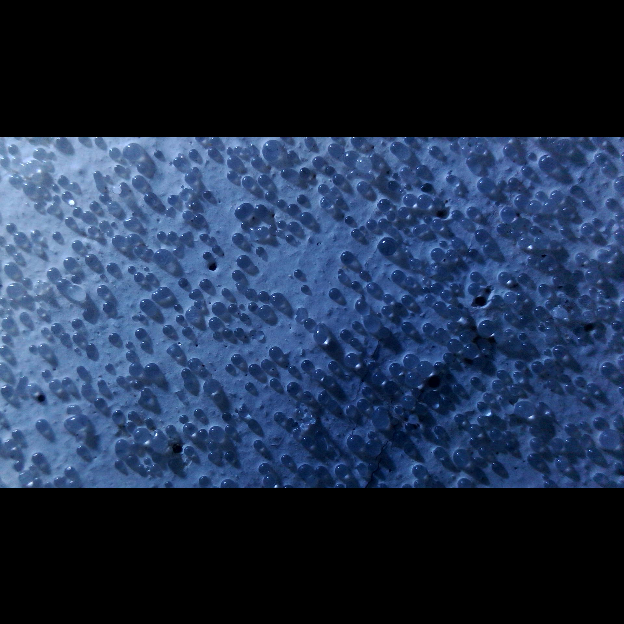GrassBeadSeg: (38, 154, 548, 453), (50, 170, 576, 447), (72, 206, 540, 465), (34, 146, 443, 434), (181, 183, 579, 463), (22, 199, 598, 391), (258, 147, 605, 448), (228, 181, 590, 456), (157, 230, 597, 456), (97, 240, 562, 447), (61, 142, 452, 387), (123, 142, 564, 356), (62, 189, 462, 422), (8, 143, 543, 316), (95, 144, 439, 406), (96, 177, 456, 421), (52, 194, 551, 367), (66, 196, 517, 384), (54, 207, 505, 391), (115, 193, 477, 419), (225, 154, 602, 371), (23, 181, 534, 339), (171, 193, 583, 384), (41, 165, 412, 376), (192, 225, 596, 418), (134, 208, 460, 439), (93, 169, 408, 407), (123, 183, 602, 337), (112, 233, 568, 391), (92, 176, 519, 341), (266, 216, 575, 432), (245, 186, 532, 414), (136, 157, 533, 320), (46, 294, 445, 451), (65, 188, 394, 372), (50, 322, 461, 464), (276, 198, 588, 384), (161, 229, 441, 433), (298, 193, 612, 374), (169, 230, 463, 421), (243, 155, 544, 338), (14, 163, 427, 295), (206, 197, 507, 378), (313, 206, 514, 475), (50, 156, 536, 264), (125, 221, 505, 359), (252, 213, 476, 447), (207, 146, 594, 281), (74, 185, 515, 302), (144, 191, 581, 303), (240, 220, 513, 399), (73, 248, 444, 375), (345, 205, 571, 413), (383, 214, 608, 421), (46, 149, 530, 245), (106, 169, 337, 369), (77, 217, 443, 341), (139, 194, 527, 310), (304, 241, 495, 475), (194, 151, 384, 384), (76, 297, 582, 384), (106, 135, 554, 233), (208, 193, 524, 330), (49, 309, 441, 419), (111, 173, 285, 420), (377, 197, 613, 376), (165, 281, 442, 433), (15, 212, 202, 437), (189, 287, 437, 456), (127, 264, 325, 475), (47, 202, 585, 279), (251, 154, 459, 351), (350, 157, 606, 316), (47, 271, 371, 394), (130, 352, 541, 447), (125, 206, 401, 347), (476, 176, 616, 445), (372, 200, 540, 423), (227, 193, 431, 373), (310, 164, 532, 327), (135, 270, 340, 439), (143, 149, 296, 375), (162, 227, 487, 333), (55, 196, 189, 453), (177, 176, 492, 285), (71, 239, 291, 392), (404, 182, 546, 412), (34, 293, 267, 430), (190, 178, 433, 303), (322, 274, 598, 384), (216, 227, 359, 439), (7, 144, 409, 217), (257, 368, 534, 473), (326, 374, 596, 481), (180, 367, 538, 447), (297, 359, 543, 475), (0, 383, 274, 485), (390, 141, 526, 340), (99, 219, 201, 484), (509, 224, 619, 469), (238, 237, 362, 449), (261, 139, 356, 415), (278, 301, 472, 434), (94, 396, 419, 475), (226, 155, 385, 314), (212, 155, 323, 380), (469, 269, 606, 445), (355, 197, 615, 288), (150, 190, 275, 375), (311, 154, 475, 294), (251, 155, 359, 365), (198, 427, 604, 482), (70, 182, 327, 268), (135, 166, 263, 337), (76, 230, 171, 455), (208, 173, 343, 328), (113, 163, 266, 299), (195, 219, 298, 416), (277, 151, 534, 228), (286, 202, 527, 282), (280, 377, 504, 463), (260, 282, 480, 368), (157, 141, 278, 295), (356, 243, 591, 321), (286, 416, 546, 486), (70, 141, 456, 188), (153, 149, 376, 229), (387, 179, 513, 319), (199, 436, 558, 485), (244, 381, 425, 476), (84, 252, 412, 304), (422, 176, 552, 307), (334, 196, 414, 408), (71, 321, 299, 393), (42, 399, 530, 432), (210, 321, 433, 391), (165, 142, 254, 317), (182, 211, 304, 336), (235, 253, 369, 365), (175, 210, 310, 321), (131, 271, 229, 419), (327, 362, 468, 464), (11, 411, 540, 438), (364, 393, 605, 452), (300, 207, 387, 369), (198, 277, 354, 365), (0, 162, 78, 336), (303, 150, 357, 399), (21, 293, 244, 352), (183, 291, 284, 421), (6, 281, 73, 476), (170, 303, 269, 434), (221, 163, 317, 298), (317, 156, 370, 400), (231, 269, 430, 333), (57, 148, 139, 294), (273, 321, 393, 420), (150, 407, 298, 486), (0, 217, 134, 301), (236, 268, 413, 331), (162, 323, 418, 366), (174, 245, 263, 367), (166, 256, 419, 295), (84, 304, 198, 389), (107, 143, 251, 209), (333, 154, 391, 314), (99, 220, 261, 277), (257, 153, 554, 184), (49, 184, 212, 240), (167, 193, 255, 296), (90, 188, 210, 263), (327, 286, 495, 337), (241, 174, 558, 201), (503, 327, 586, 429), (529, 341, 621, 432), (275, 180, 425, 234), (461, 232, 526, 356), (89, 200, 369, 228), (296, 169, 533, 202), (275, 166, 309, 387), (146, 276, 365, 310), (337, 268, 443, 338), (65, 215, 112, 372), (328, 135, 404, 232), (191, 165, 288, 241), (42, 206, 136, 284), (211, 259, 344, 314), (136, 176, 242, 242), (211, 167, 293, 252), (28, 416, 154, 471), (62, 370, 523, 385), (31, 331, 83, 462), (400, 269, 599, 303), (303, 396, 481, 434), (208, 397, 369, 439), (51, 181, 74, 475), (0, 278, 92, 351), (388, 246, 439, 376), (103, 173, 154, 299), (269, 362, 524, 386), (234, 201, 615, 217), (359, 147, 405, 279), (114, 333, 218, 391), (356, 394, 433, 472), (152, 247, 186, 420), (405, 334, 521, 384), (204, 196, 330, 242), (183, 422, 376, 452), (425, 180, 532, 233), (32, 429, 189, 464), (28, 382, 574, 392), (501, 137, 606, 188), (390, 268, 473, 332), (152, 406, 246, 462), (99, 192, 205, 240), (339, 231, 480, 262), (356, 180, 392, 301), (503, 142, 522, 368), (166, 342, 253, 391), (23, 256, 159, 287), (344, 217, 591, 234), (385, 209, 474, 256), (268, 297, 335, 359), (14, 230, 359, 242), (258, 135, 309, 215), (178, 151, 244, 209), (265, 268, 301, 371), (367, 387, 438, 438), (457, 455, 567, 486), (490, 299, 550, 355), (470, 248, 494, 384), (6, 394, 41, 486), (18, 346, 91, 390), (414, 239, 521, 269), (303, 189, 326, 327), (184, 171, 195, 456), (519, 294, 614, 327), (298, 276, 357, 328), (537, 166, 608, 207), (111, 174, 141, 271), (52, 227, 293, 239), (139, 302, 218, 338), (123, 183, 186, 228), (6, 282, 43, 353), (466, 189, 563, 216), (304, 421, 412, 445), (369, 313, 486, 335), (445, 351, 472, 444), (434, 311, 453, 443), (231, 352, 410, 366), (573, 228, 623, 275), (431, 196, 456, 290), (102, 295, 248, 311), (198, 367, 233, 432), (96, 153, 112, 294), (130, 367, 207, 396), (264, 437, 311, 484), (57, 458, 138, 485), (440, 236, 461, 339), (535, 189, 584, 233), (543, 460, 620, 488), (33, 200, 95, 233), (451, 234, 543, 256), (368, 468, 469, 488), (128, 361, 261, 376), (5, 173, 35, 238), (432, 445, 532, 464), (576, 198, 621, 240), (0, 154, 18, 259), (215, 281, 247, 339), (222, 284, 256, 337), (323, 164, 352, 225), (37, 273, 79, 315), (310, 137, 378, 162), (1, 315, 48, 351), (396, 383, 450, 414), (3, 228, 40, 273), (452, 382, 478, 446), (435, 196, 449, 313), (433, 300, 538, 315), (207, 417, 256, 449), (108, 331, 142, 376), (254, 203, 292, 243), (81, 174, 105, 235), (183, 279, 357, 287), (412, 225, 454, 258), (528, 424, 559, 468), (478, 387, 497, 457), (63, 255, 81, 325), (136, 312, 151, 396), (458, 329, 480, 386), (194, 145, 240, 172), (12, 154, 35, 207), (361, 180, 369, 329), (377, 235, 395, 301), (28, 135, 66, 166), (172, 155, 190, 220), (13, 459, 61, 483), (453, 150, 468, 226), (382, 214, 462, 228), (482, 391, 496, 469), (456, 385, 485, 422), (576, 319, 620, 343), (546, 377, 583, 402), (480, 142, 500, 188), (137, 245, 207, 258), (180, 231, 210, 261), (132, 270, 161, 300), (212, 422, 233, 462), (571, 268, 599, 296), (434, 361, 451, 406), (9, 445, 29, 483), (9, 306, 40, 330), (126, 232, 141, 281), (415, 233, 427, 294), (521, 325, 550, 349), (82, 307, 97, 353), (129, 440, 154, 467), (292, 409, 319, 433), (37, 331, 68, 351), (377, 217, 410, 233), (4, 242, 21, 273), (483, 440, 514, 456), (490, 290, 523, 305), (128, 455, 157, 471), (168, 160, 184, 189), (371, 429, 406, 442), (3, 436, 17, 468), (509, 382, 551, 391), (24, 344, 33, 384), (579, 217, 601, 233), (424, 275, 451, 288), (578, 393, 588, 428), (490, 437, 500, 471), (393, 404, 402, 441), (248, 225, 278, 236), (495, 429, 511, 449), (491, 378, 504, 402), (600, 289, 614, 311), (108, 146, 119, 172), (221, 326, 243, 339), (476, 399, 487, 424), (488, 427, 500, 449), (181, 209, 189, 242), (534, 212, 543, 241), (225, 146, 250, 156), (536, 317, 551, 333), (355, 461, 377, 471), (333, 462, 348, 476), (130, 238, 144, 253), (433, 288, 452, 299), (460, 142, 479, 153), (498, 391, 515, 403), (606, 331, 618, 347), (436, 351, 446, 370), (1, 332, 10, 353), (138, 462, 155, 473), (207, 440, 216, 460), (327, 142, 341, 154), (124, 452, 138, 464), (365, 281, 378, 293), (187, 356, 200, 368), (263, 473, 276, 480), (446, 247, 455, 256), (188, 147, 196, 157), (532, 214, 536, 234), (445, 173, 454, 181), (300, 434, 308, 443), (528, 224, 537, 232), (81, 380, 89, 389), (445, 304, 455, 311), (437, 434, 443, 445), (403, 420, 409, 429)
